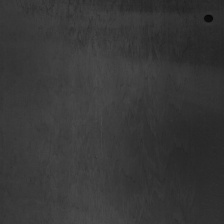punching_hole: (115, 6, 195, 216), (32, 7, 112, 215), (202, 11, 214, 25)
